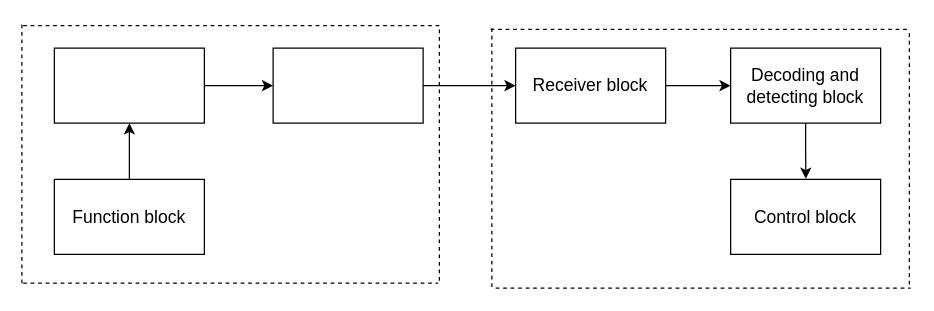
This 934x311 diagram has some shape labels left out. The box of each missing label's shape, as (x1, y1, x2, y2) in pixels:
Encryption block: (53, 47, 204, 123)
Transmitter block: (272, 47, 423, 123)
